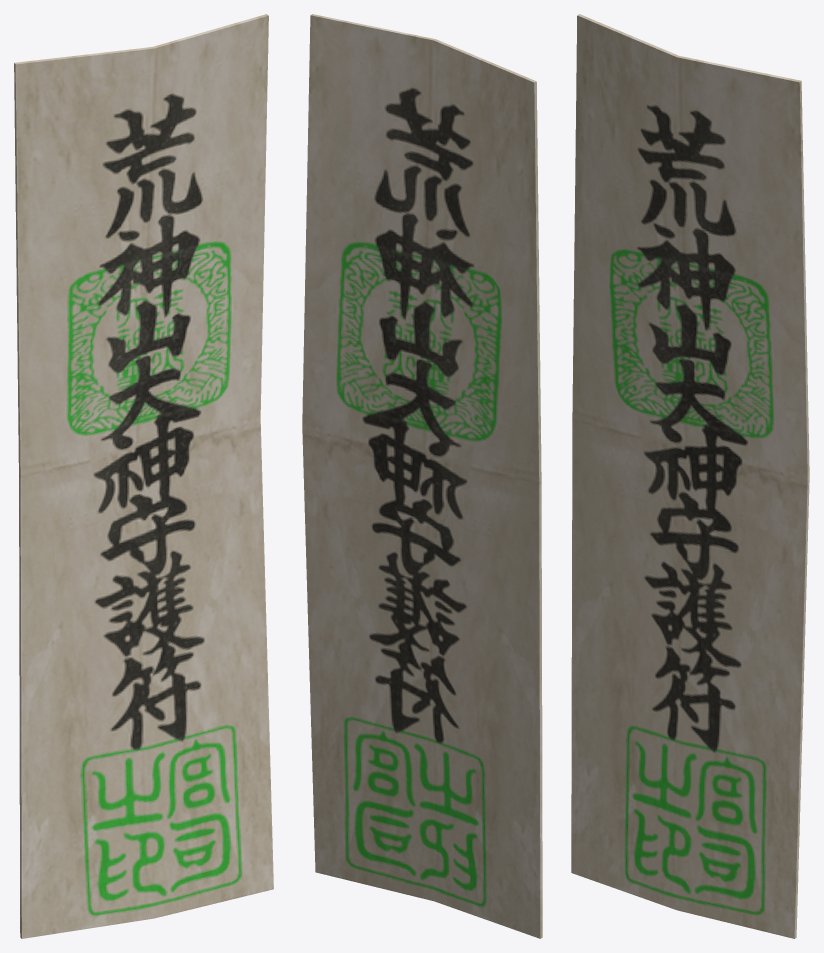
Rendered from ofuda_talisman_green.fbx.
3 renders of one model, left to right at view 1: azimuth 30°, elevation 25°; view 2: azimuth 150°, elevation 25°; view 3: azimuth 330°, elevation 25°, orthographic.
Parts seen in each view (by area): view 1: ofuda_talisman_green; view 2: ofuda_talisman_green; view 3: ofuda_talisman_green.
Part boxes in pixels (<box>): ofuda_talisman_green: <box>14,14,273,938</box>; ofuda_talisman_green: <box>302,14,542,938</box>; ofuda_talisman_green: <box>571,14,809,938</box>.
Bounding box in the file's own units: 4.33 × 14.99 × 0.634.
Materials: 1 (1 with a texture image).
